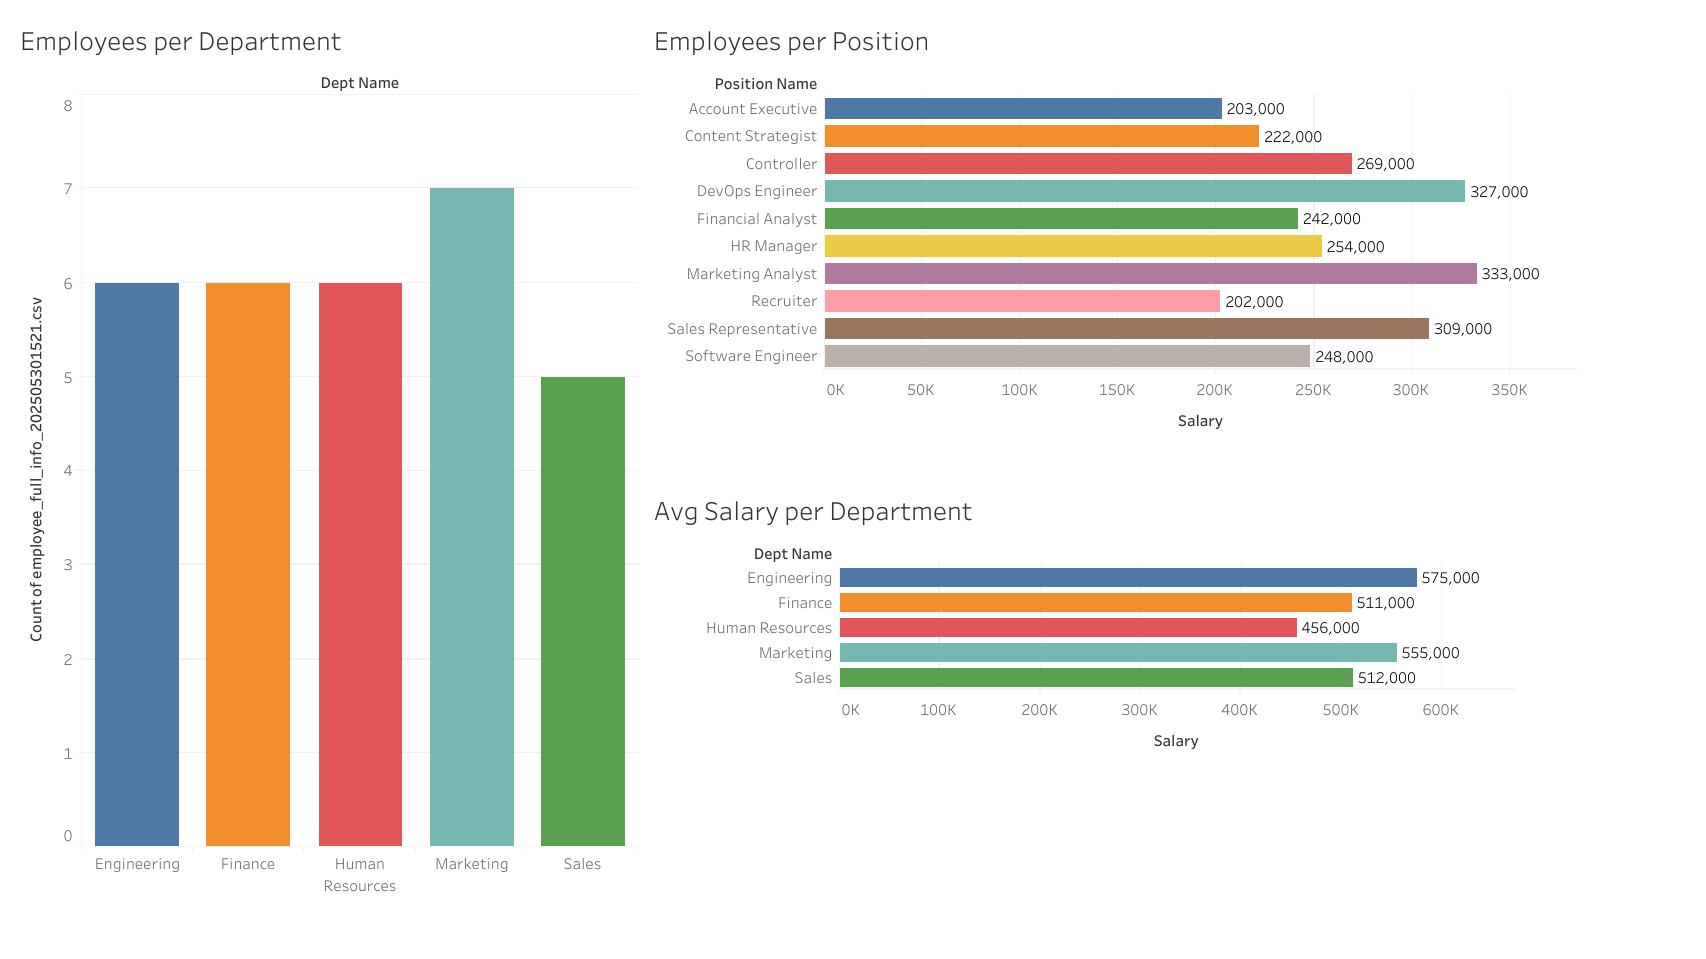

The dashboard page shown, as its layout file describes it:
{"tool":"tableau","page":{"name":"Dashboard 1","canvas":[1366,768],"ordinal":0},"visuals":[{"type":"worksheet","title":"Employees per Department","mark":"Bar","rows":["employee_full_info_202505301521.csv_20D1F20988B648F3A197F35F"],"cols":["dept_name"],"box":[8,8,507.1,752]},{"type":"worksheet","title":"Employees per Position ","mark":"Automatic","rows":["position_name"],"cols":["salary"],"box":[515.1,8,842.9,376]},{"type":"worksheet","title":"Avg Salary per Department","mark":"Automatic","rows":["dept_name"],"cols":["salary"],"box":[515.1,384,842.9,376]}]}

Visuals, with their boxes in screenshot pixels (x1, y1, x2, y2), scaled from the page's 1366x768 canvas onto the 1706x959 screenshot:
"Employees per Department" worksheet (Bar marks): [10, 10, 643, 949]
"Employees per Position " worksheet: [643, 10, 1696, 480]
"Avg Salary per Department" worksheet: [643, 480, 1696, 949]
